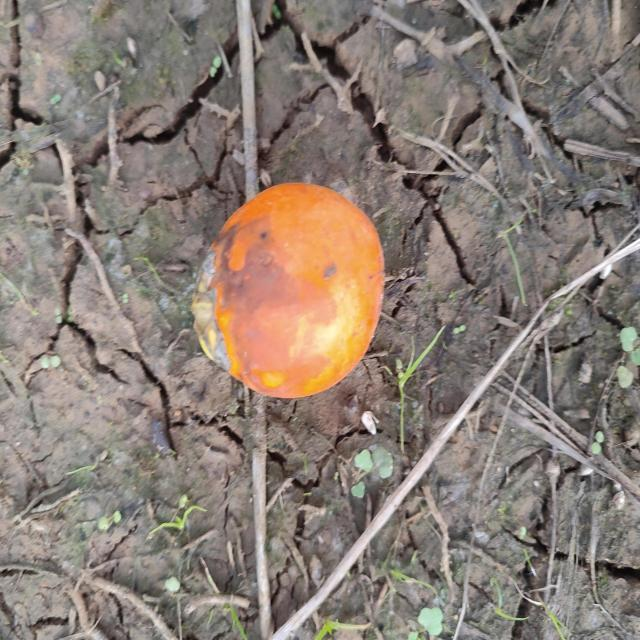good: (191, 183, 386, 401)
